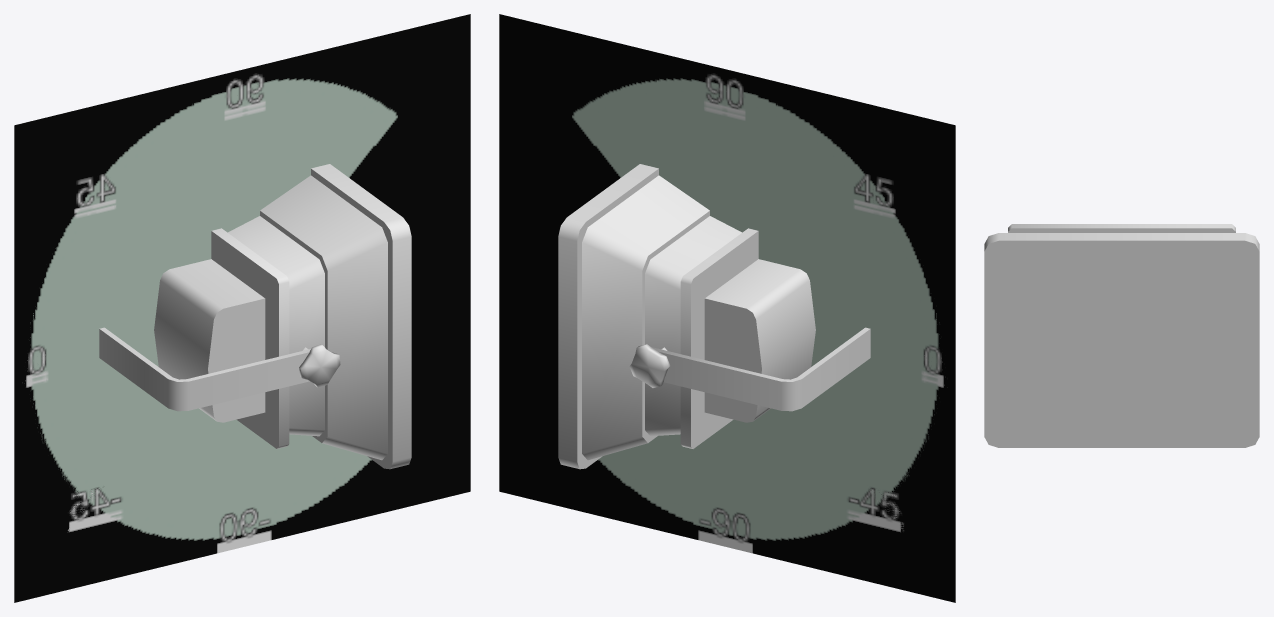
File: Flood_Light.dae
3 views of the same model, side by side, from view 1: azimuth 30°, elevation 25°; view 2: azimuth 150°, elevation 25°; view 3: azimuth 270°, elevation 25° (orthographic). The views are drawn at different scales.
Visible parts, largest first — view 1: Plane, Floodlight, Handle; view 2: Plane, Floodlight, Handle; view 3: Floodlight.
Boxes of the visible parts, box(x1,y1,x2,y2) form: Plane: box(14, 14, 470, 602); Floodlight: box(154, 164, 411, 469); Handle: box(99, 327, 340, 411); Plane: box(499, 14, 955, 602); Floodlight: box(558, 164, 815, 469); Handle: box(629, 327, 870, 411); Floodlight: box(984, 224, 1259, 447).
Size of the model in its own units: 0.3641 by 0.226 by 0.3641.
